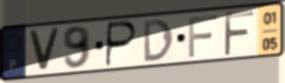9: (62, 24, 94, 71)
D: (142, 17, 176, 64)
F: (222, 9, 257, 58), (187, 13, 220, 59)
P: (103, 19, 139, 69)
V: (26, 27, 62, 73)
